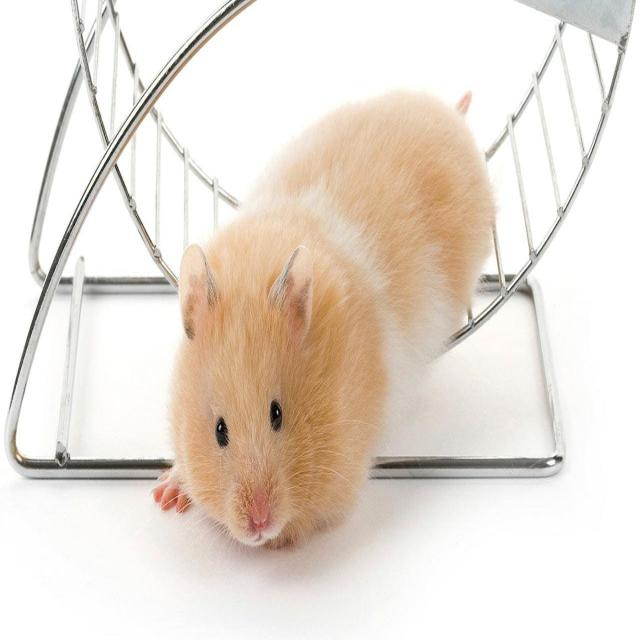hamster: (159, 107, 509, 562)
